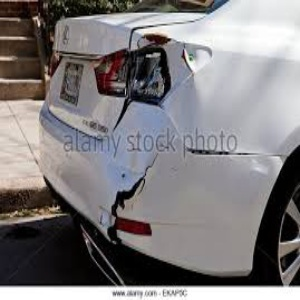bumper: (93, 163, 198, 252)
